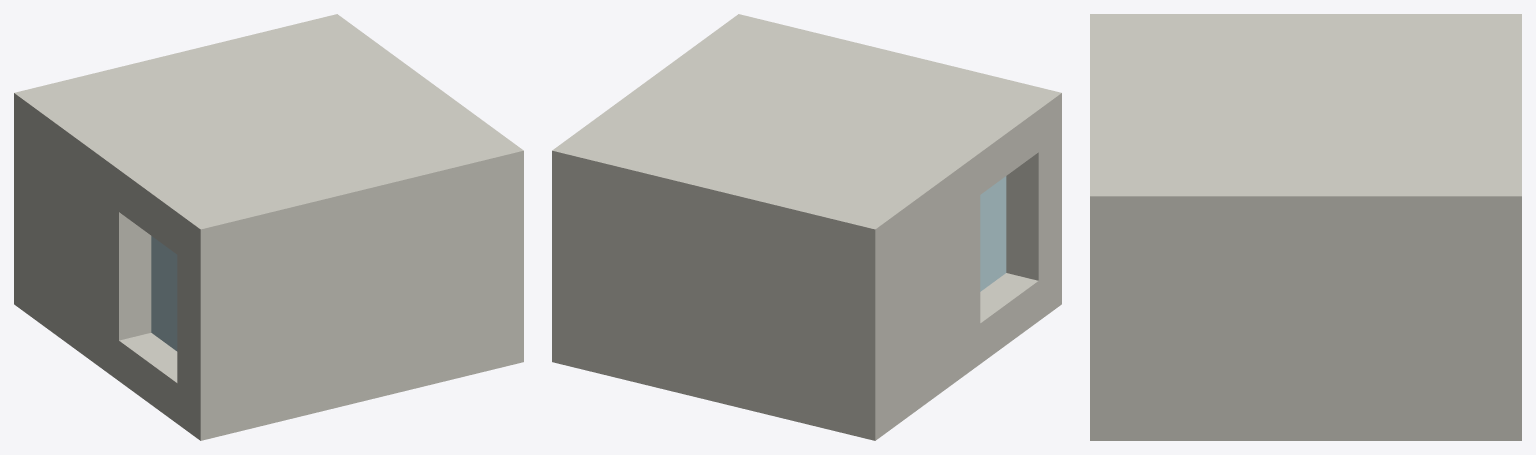
The model's file is building_056.glb.
The picture shows the model from 3 angles, left to right: view 1: azimuth 30°, elevation 25°; view 2: azimuth 150°, elevation 25°; view 3: azimuth 270°, elevation 25°; orthographic projection. The views are drawn at different scales.
Visible parts, largest first — view 1: building_056; view 2: building_056; view 3: building_056.
Part boxes in pixels (bbox=[...]): building_056: bbox=[14, 14, 523, 440]; building_056: bbox=[552, 14, 1061, 440]; building_056: bbox=[1090, 14, 1521, 440].
Size of the model in its own units: 1 by 0.625 by 1.
